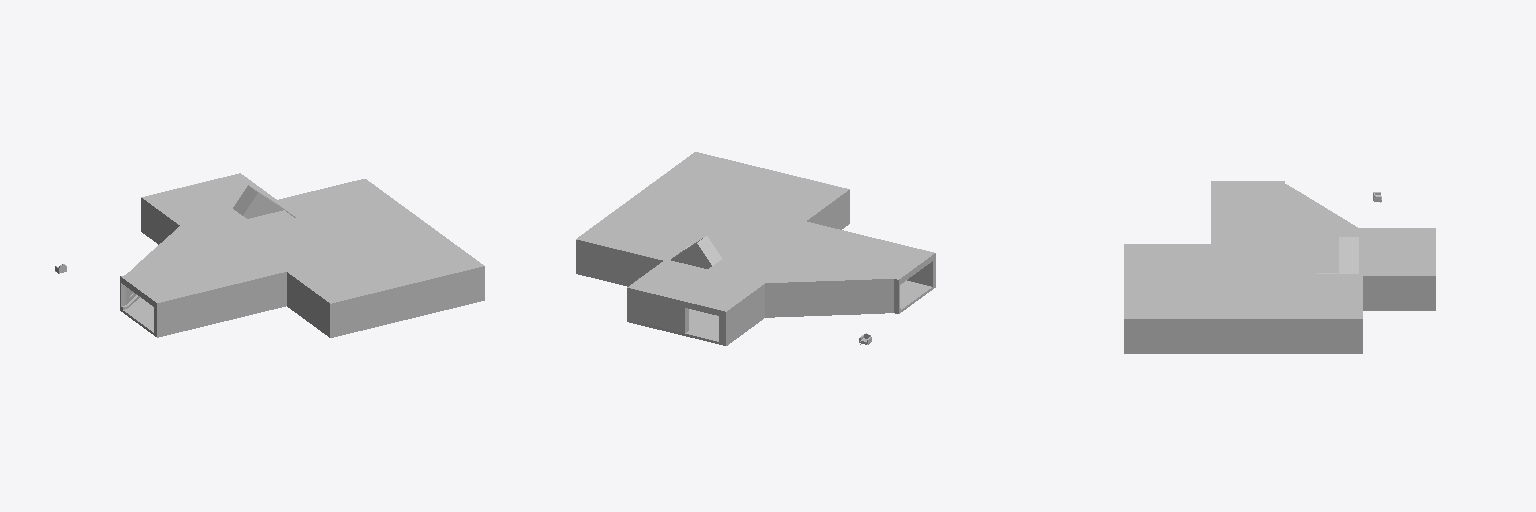
File: 3west_2.obj
3 views of the same model, side by side, from view 1: azimuth 30°, elevation 25°; view 2: azimuth 150°, elevation 25°; view 3: azimuth 270°, elevation 25° (orthographic).
Visible parts, largest first — view 1: ThreeWest polySurface14 polySurface7 polySurface5 polySurface1 p, ThreeWest Escalator pCube27, ThreeWest polySurface43, ThreeWest floor; view 2: ThreeWest polySurface14 polySurface7 polySurface5 polySurface1 p, ThreeWest floor, ThreeWest Escalator pCube27, ThreeWest polySurface43; view 3: ThreeWest polySurface14 polySurface7 polySurface5 polySurface1 p, ThreeWest Escalator pCube27.
Part boxes in pixels (bbox=[...]): ThreeWest polySurface14 polySurface7 polySurface5 polySurface1 p: bbox=[120, 173, 484, 337]; ThreeWest Escalator pCube27: bbox=[233, 185, 284, 218]; ThreeWest polySurface43: bbox=[145, 207, 175, 241]; ThreeWest floor: bbox=[124, 298, 153, 331]; ThreeWest polySurface14 polySurface7 polySurface5 polySurface1 p: bbox=[576, 152, 935, 345]; ThreeWest floor: bbox=[685, 280, 931, 341]; ThreeWest Escalator pCube27: bbox=[671, 236, 721, 268]; ThreeWest polySurface43: bbox=[730, 292, 762, 337]; ThreeWest polySurface14 polySurface7 polySurface5 polySurface1 p: bbox=[1124, 181, 1435, 353]; ThreeWest Escalator pCube27: bbox=[1339, 237, 1358, 273].
Bounding box in the file's own units: 3566 × 773 × 3202.